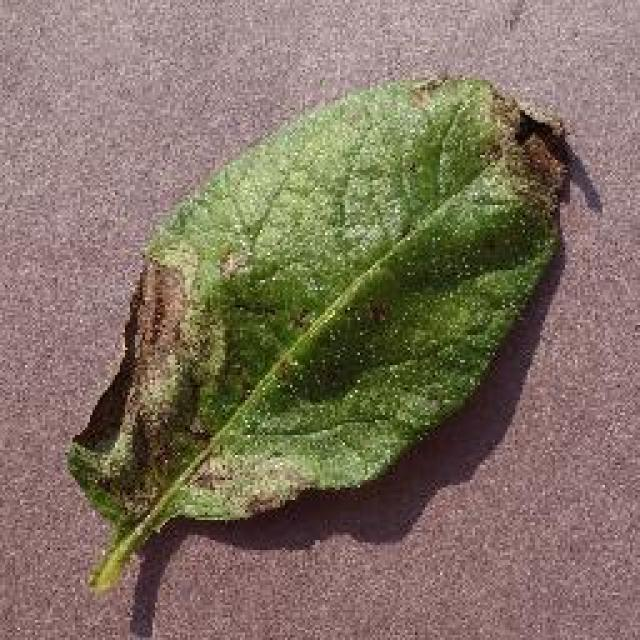late_blight: (60, 68, 572, 592)
